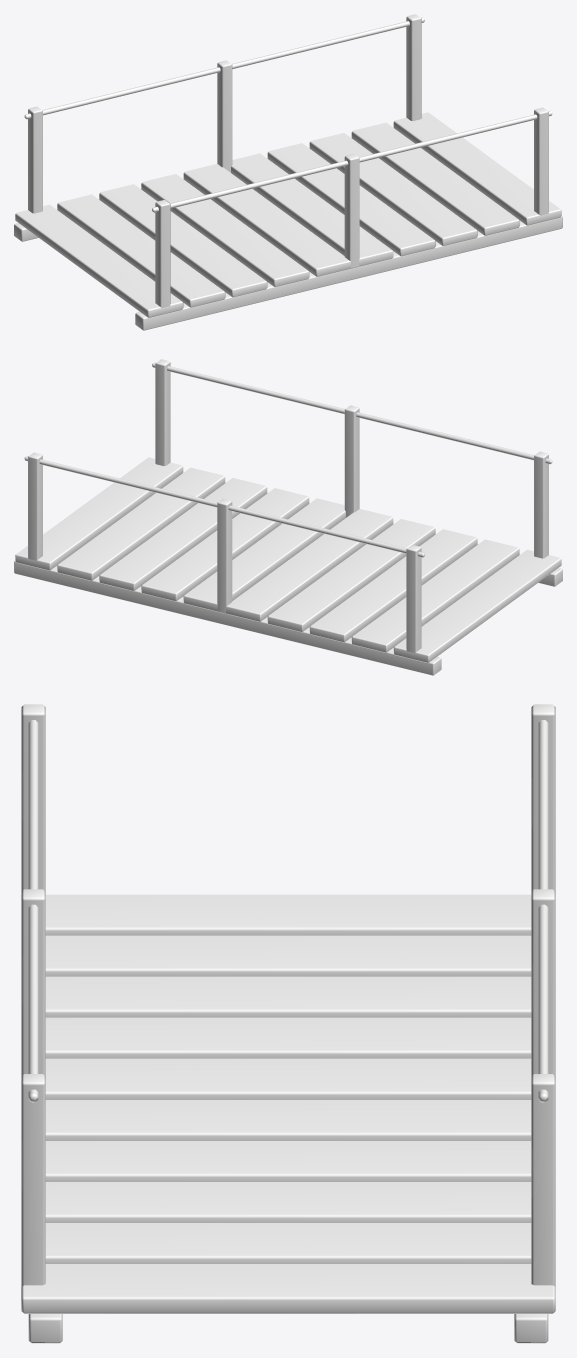
Rendered from bridge.glb.
The picture shows the model from 3 angles, top to bottom: view 1: azimuth 30°, elevation 25°; view 2: azimuth 150°, elevation 25°; view 3: azimuth 270°, elevation 25°; orthographic projection. The views are drawn at different scales.
Parts seen in each view (by area): view 1: Bridge; view 2: Bridge; view 3: Bridge.
Part boxes in pixels (x1,y1,x2,y2): Bridge: [14, 14, 562, 330]; Bridge: [14, 359, 562, 675]; Bridge: [21, 704, 555, 1343].
Bounding box in the file's own units: 4 × 1.12 × 2.2.
1 material, 1 textured.
